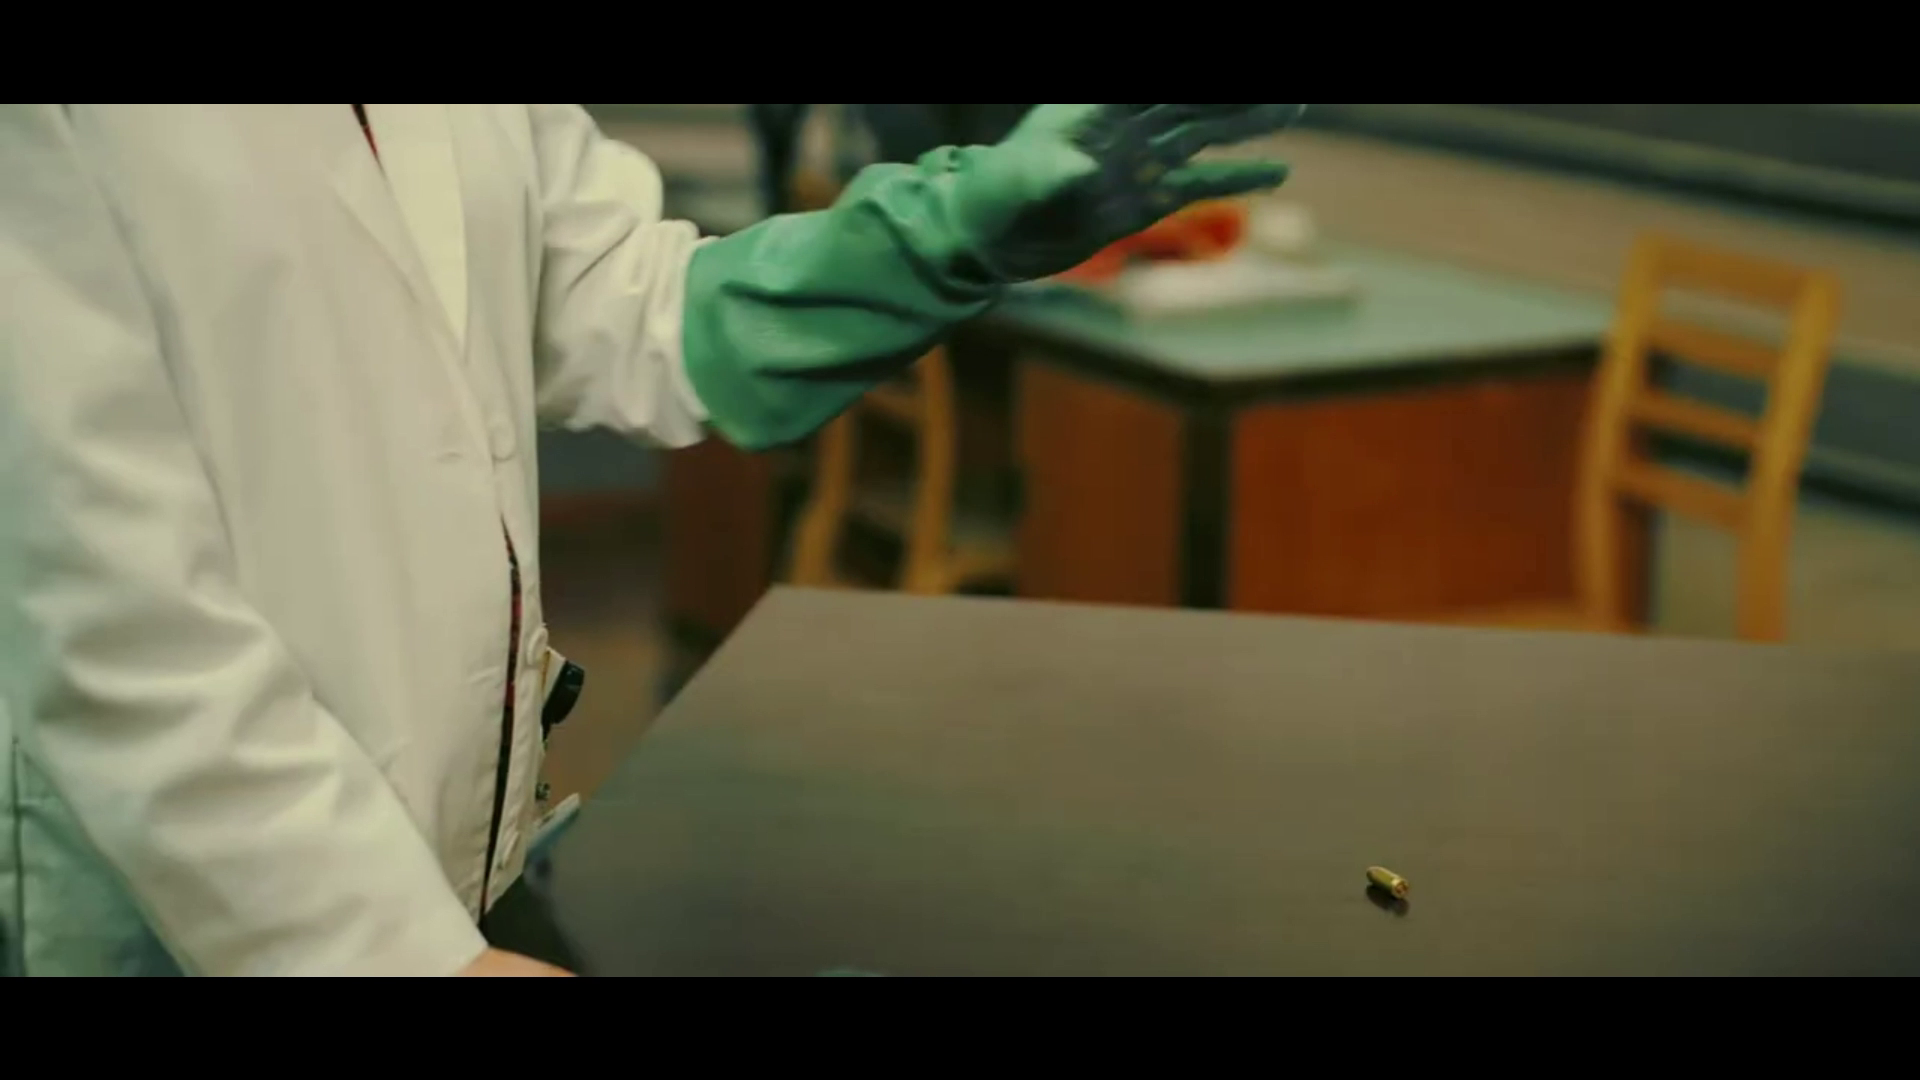Bullet: (1360, 861, 1410, 901)
